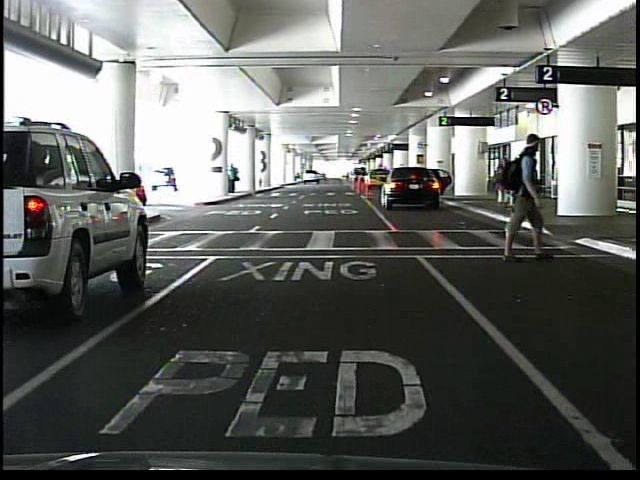person: (487, 137, 569, 263), (490, 157, 512, 208), (512, 162, 530, 210), (528, 163, 538, 198), (228, 164, 238, 195)
